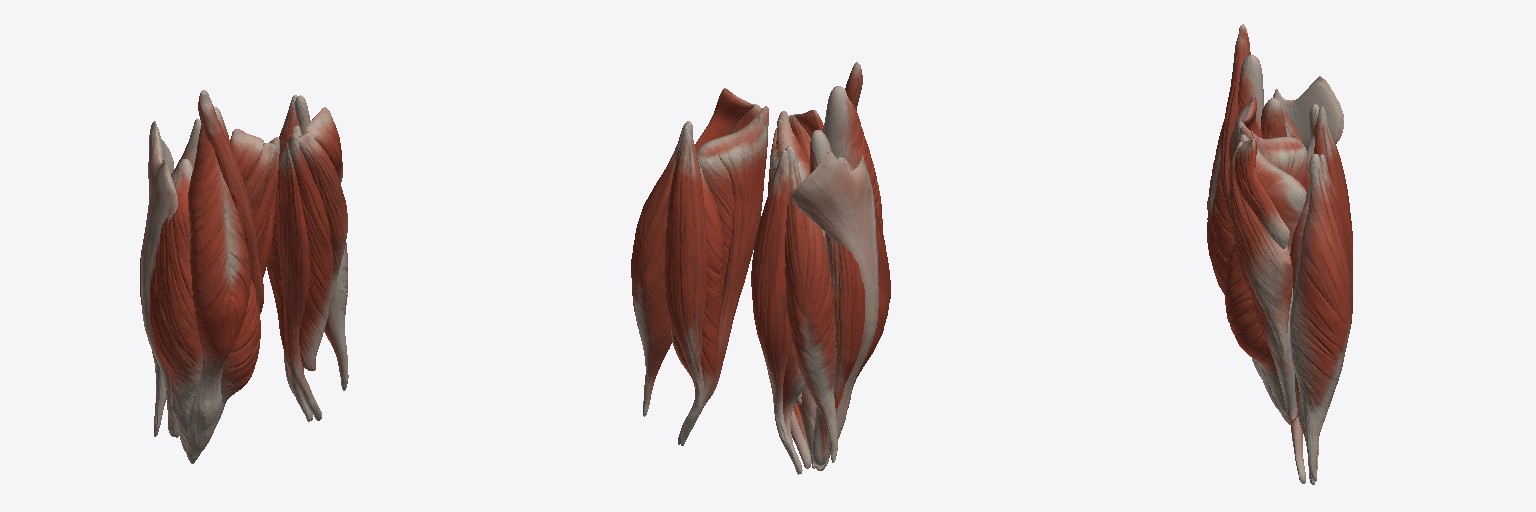
The picture shows the model from 3 angles: view 1: azimuth 30°, elevation 25°; view 2: azimuth 150°, elevation 25°; view 3: azimuth 270°, elevation 25°; orthographic projection.
Parts seen in each view (by area): view 1: Group19664; view 2: Group19664; view 3: Group19664.
Boxes of the visible parts, x1,y1,x2,y2 form: Group19664: [140, 90, 348, 463]; Group19664: [631, 62, 890, 474]; Group19664: [1207, 24, 1352, 484].
Size of the model in its own units: 13.22 by 22.6 by 7.62.
1 materials, 1 textured.